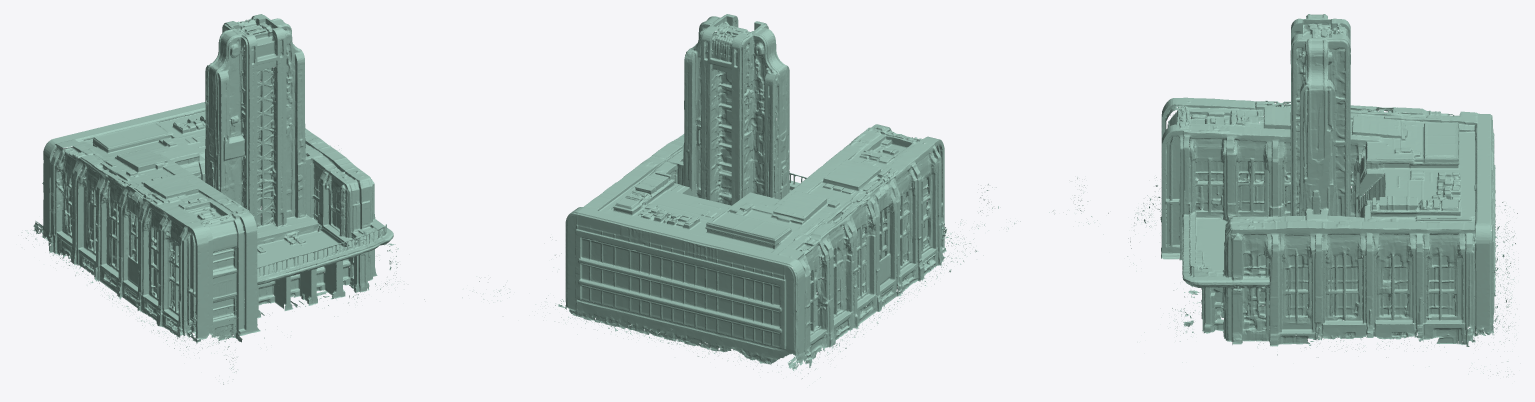
The model's file is cyberpunk-block-09-building-0.glb.
3 views of the same model, side by side, from view 1: azimuth 30°, elevation 25°; view 2: azimuth 150°, elevation 25°; view 3: azimuth 270°, elevation 25° (orthographic). The views are drawn at different scales.
Visible parts, largest first — view 1: building_0; view 2: building_0; view 3: building_0.
Boxes of the visible parts, <box> form: building_0: <box>21,14,424,384</box>; building_0: <box>462,14,1020,385</box>; building_0: <box>1049,14,1518,375</box>.
Size of the model in its own units: 1.46 by 1.08 by 1.59.
